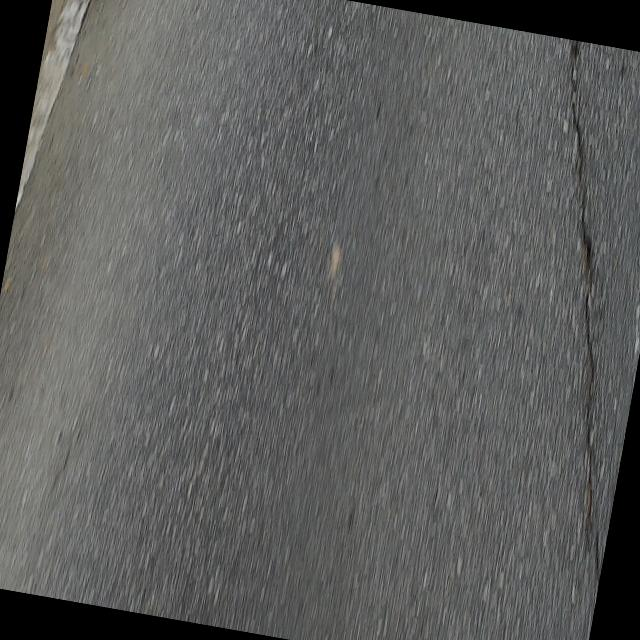Retak-Memanjang: (565, 39, 599, 593)
